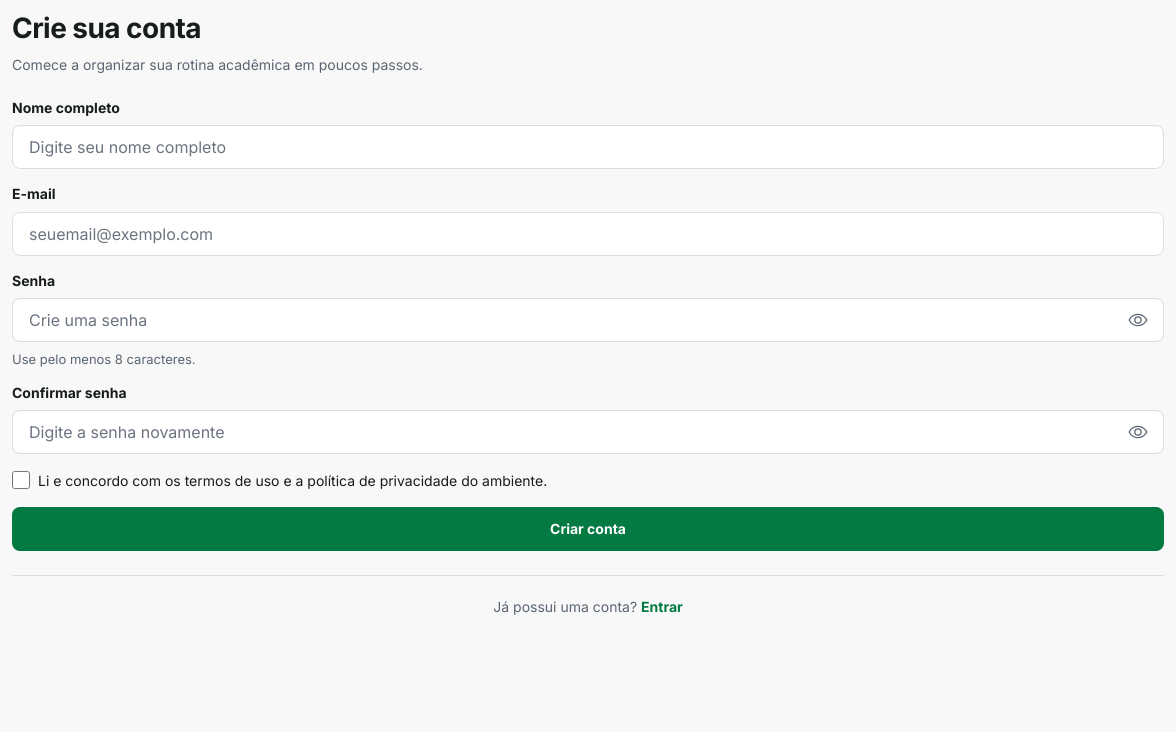
Test: RegisterForm › exibe erros de campos obrigatórios ao submeter em branco
The width and height of the screenshot is (1176, 732).
Click the button "Criar conta" at (588,529), box top-left (12, 507), bottom-right (1164, 551)
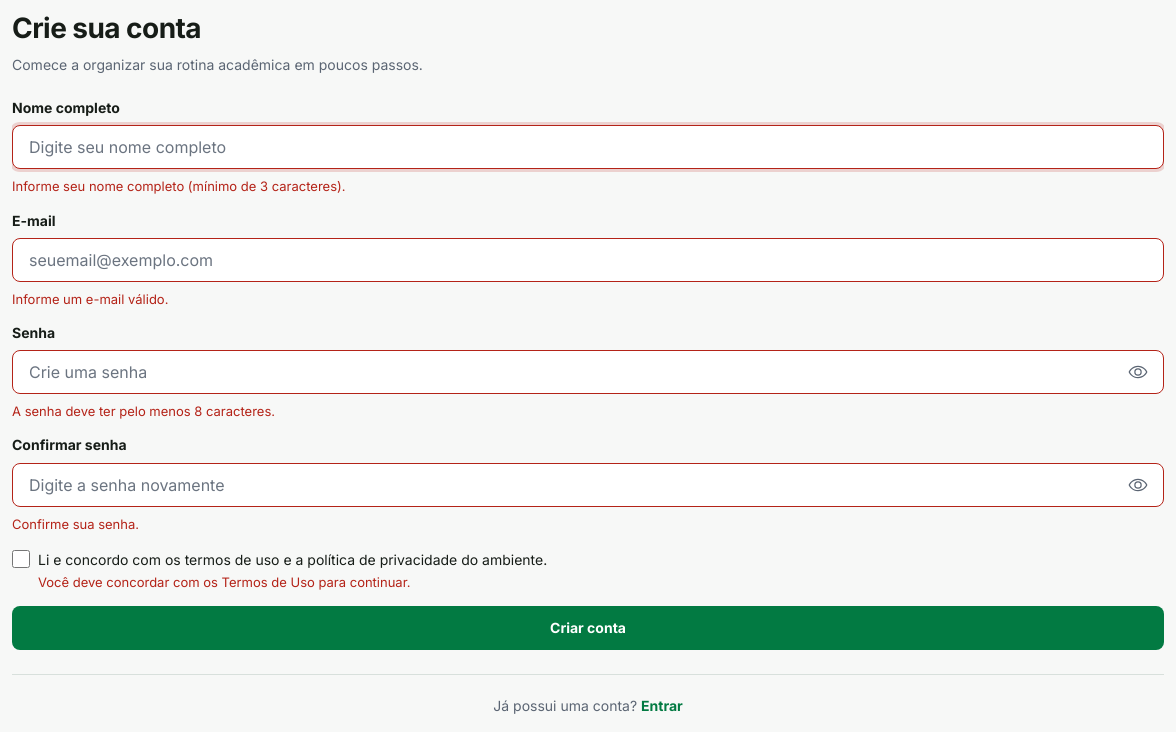
Result: the text "Informe seu nome completo (mínimo de 3 caracteres)." is shown at top-left (12, 178), bottom-right (346, 194)
Result: the text "Informe um e-mail válido." is shown at top-left (12, 291), bottom-right (168, 307)
Result: the text "A senha deve ter pelo menos 8 caracteres." is shown at top-left (12, 403), bottom-right (275, 419)
